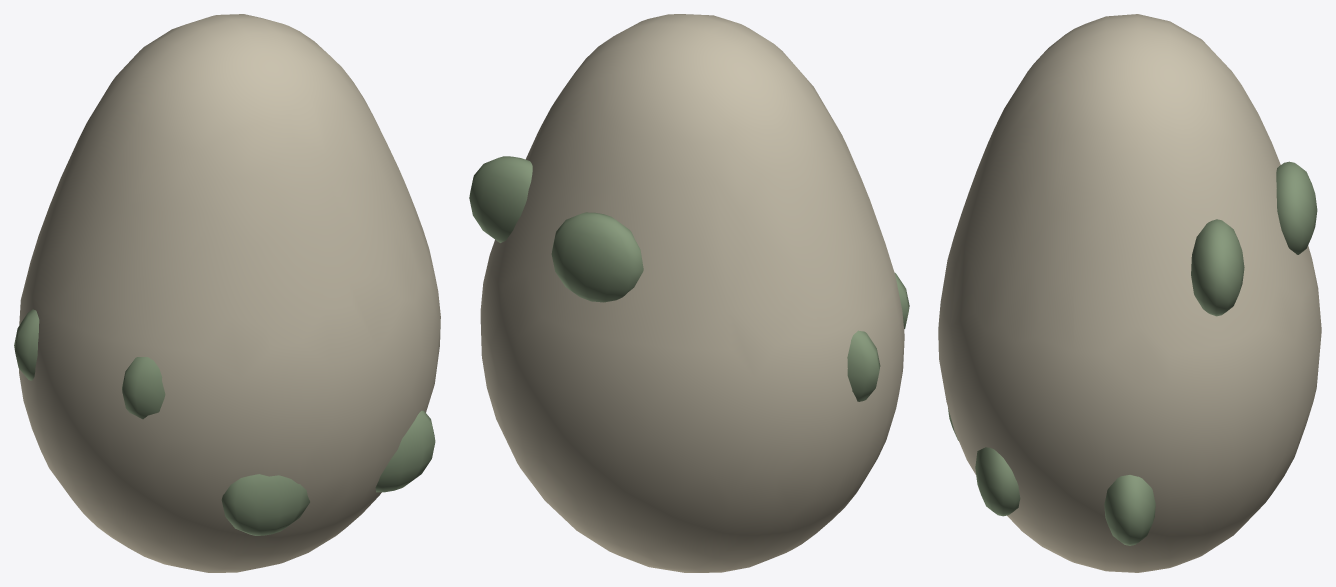
The model's file is dinosaur-egg.glb.
3 renders of one model, left to right at view 1: azimuth 30°, elevation 25°; view 2: azimuth 150°, elevation 25°; view 3: azimuth 270°, elevation 25°, orthographic.
Parts seen in each view (by area): view 1: clay-toy; view 2: clay-toy; view 3: clay-toy.
Boxes of the visible parts, x1=… form: clay-toy: x1=14, y1=14, x2=440, y2=572; clay-toy: x1=469, y1=14, x2=909, y2=572; clay-toy: x1=938, y1=14, x2=1321, y2=572.
Size of the model in its own units: 1.15 by 1.46 by 0.9588.
